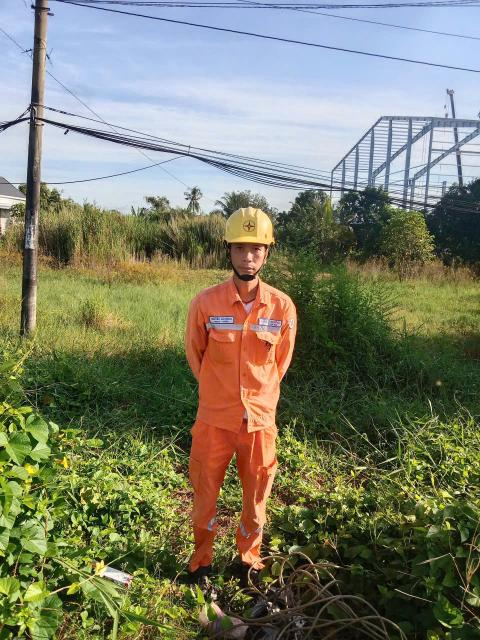helmet: (218, 196, 274, 246)
